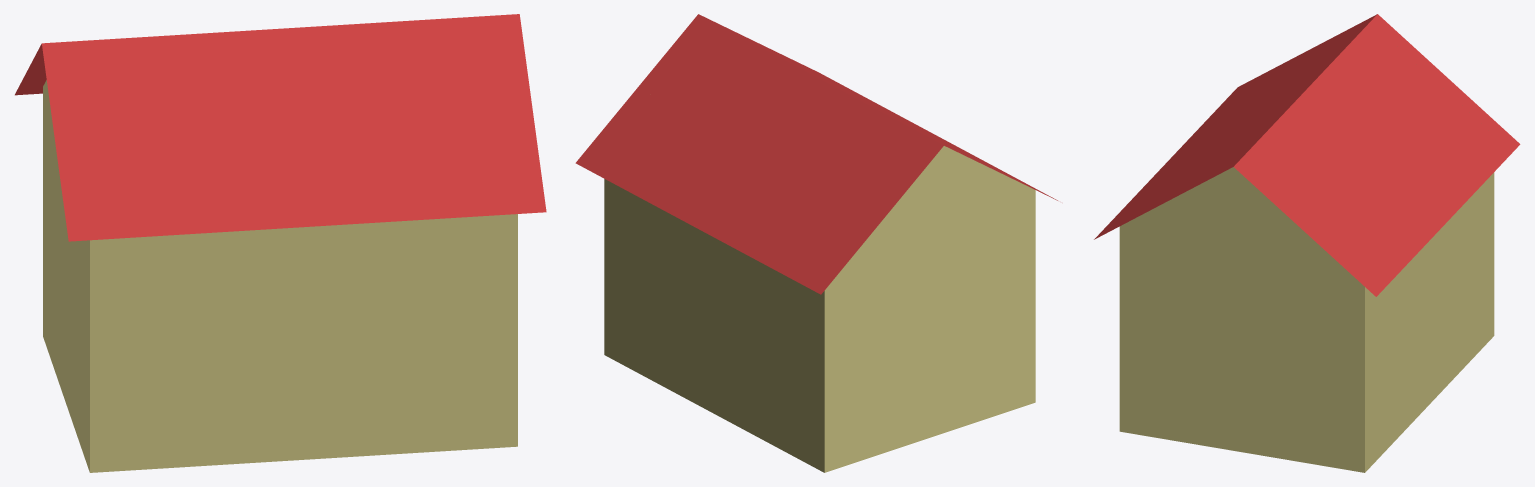
3 views of the same model, side by side, from view 1: azimuth 30°, elevation 25°; view 2: azimuth 150°, elevation 25°; view 3: azimuth 270°, elevation 25° (orthographic). The views are drawn at different scales.
Size of the model in its own units: 17.56 by 15.8 by 11.97.
